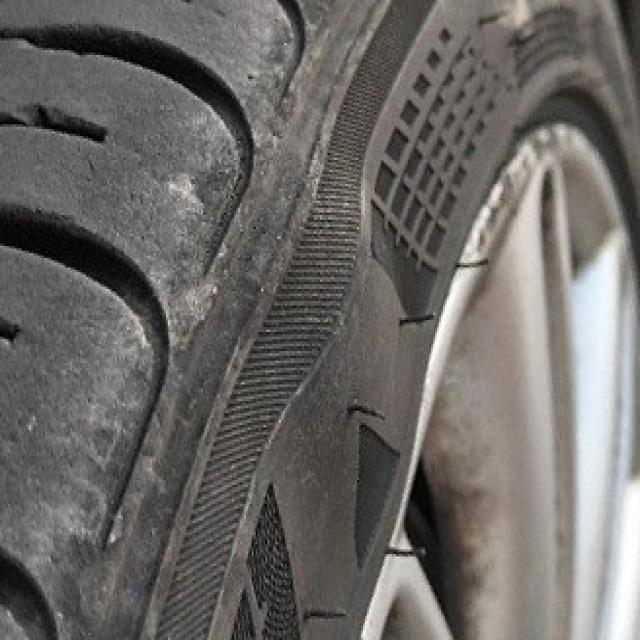Bulge: (220, 168, 430, 464)
